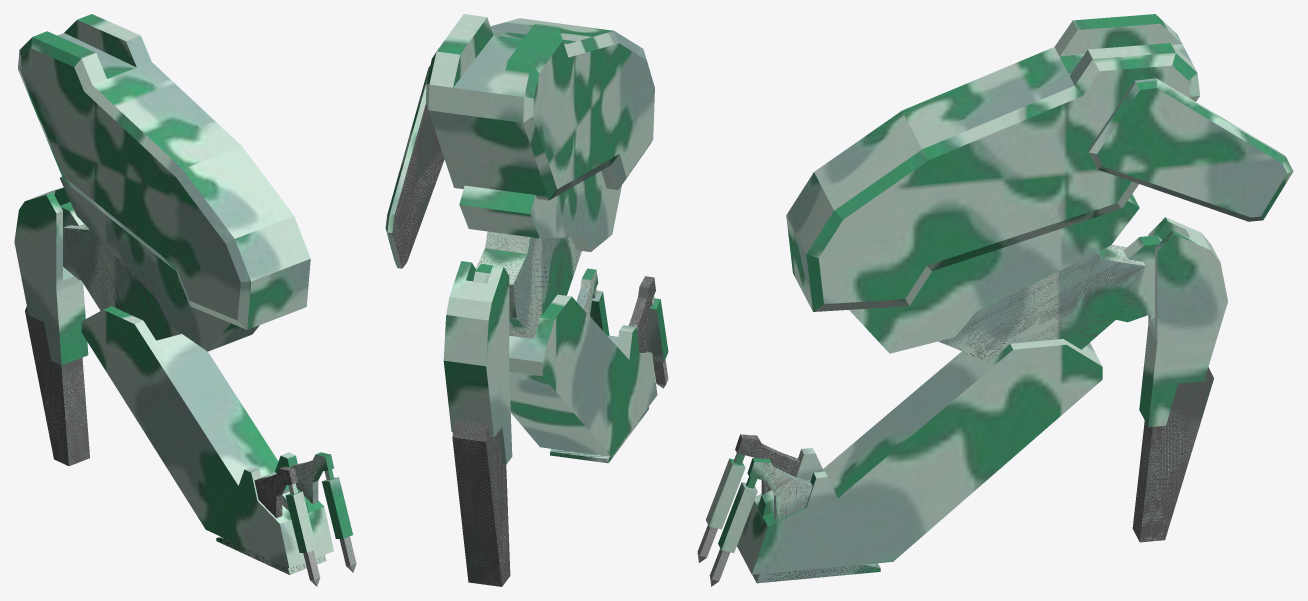
The model's file is luoRobot1RightLeg.dae.
The picture shows the model from 3 angles, left to right: view 1: azimuth 30°, elevation 25°; view 2: azimuth 150°, elevation 25°; view 3: azimuth 270°, elevation 25°; orthographic projection. The views are drawn at different scales.
Visible parts, largest first — view 1: SketchUp (×10); view 2: SketchUp (×11); view 3: SketchUp (×10).
Boxes of the visible parts, x1=… form: SketchUp (×10): x1=14, y1=14, x2=352, y2=574; SketchUp (×11): x1=385, y1=14, x2=668, y2=586; SketchUp (×10): x1=706, y1=14, x2=1293, y2=583.
Bounding box in the file's own units: 70.17 × 220 × 204.
Materials: 4 (1 with a texture image).
